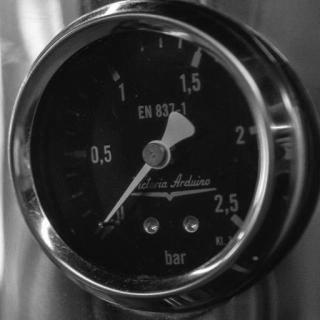gauge: (0, 0, 308, 320), (84, 214, 116, 248), (140, 141, 171, 172), (220, 206, 250, 234), (93, 214, 113, 237)
